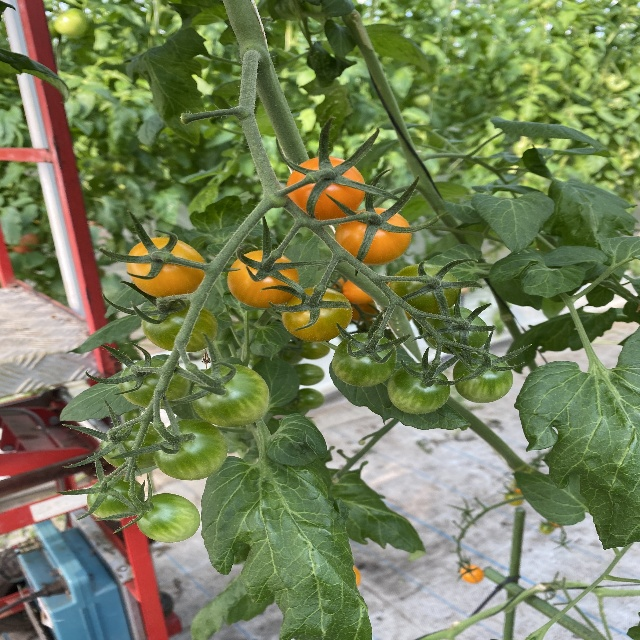l_green: (190, 364, 270, 428), (152, 419, 229, 481), (141, 301, 219, 352), (388, 262, 460, 314), (118, 359, 191, 410), (331, 333, 398, 387), (422, 305, 490, 355), (387, 362, 451, 415), (136, 493, 201, 543), (99, 423, 165, 471), (453, 353, 514, 404), (86, 475, 145, 519)
l_half_ripened: (285, 156, 365, 224), (127, 237, 208, 299), (334, 207, 411, 266), (228, 250, 300, 309), (281, 287, 352, 342)
